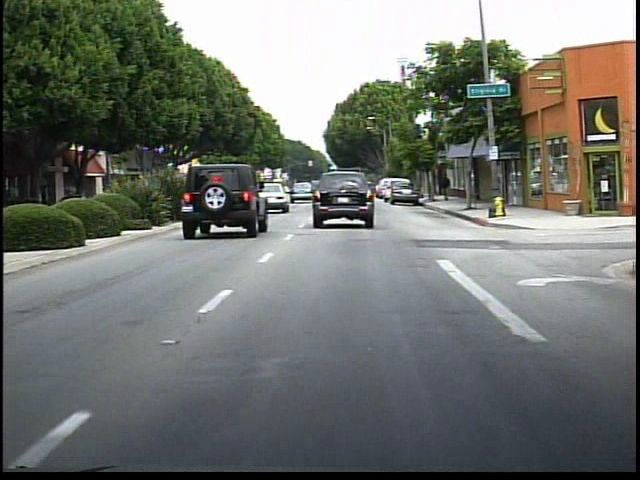person: (437, 168, 457, 204)
